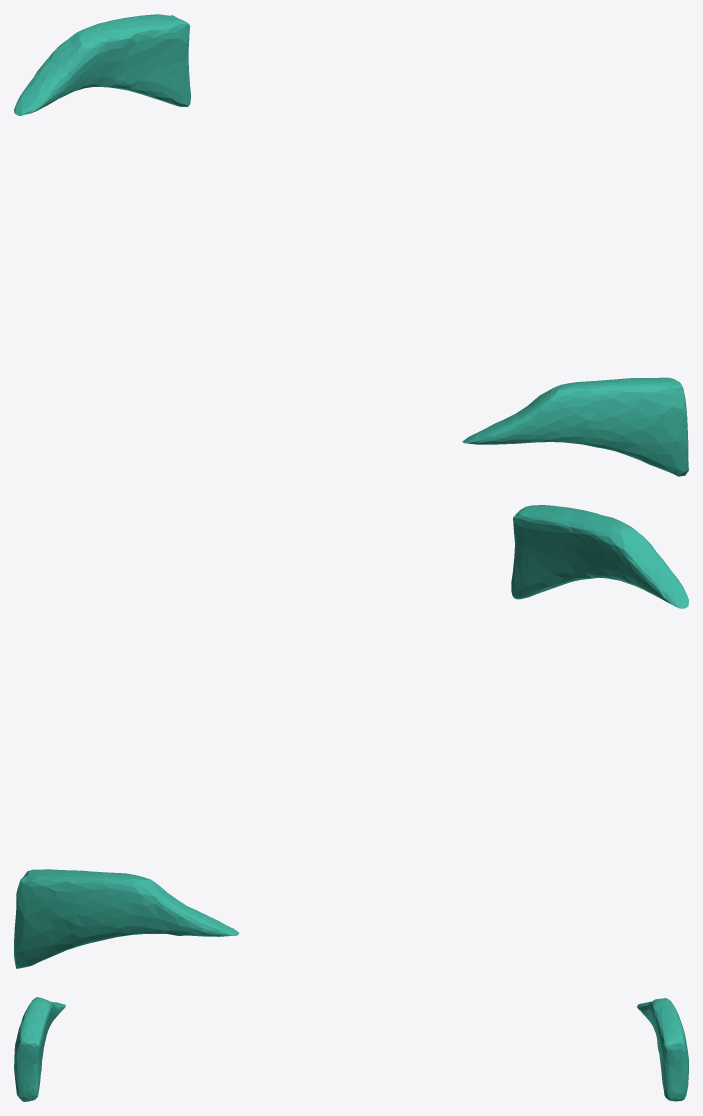
3 renders of one model, top to bottom at view 1: azimuth 30°, elevation 25°; view 2: azimuth 150°, elevation 25°; view 3: azimuth 270°, elevation 25°, orthographic. The views are drawn at different scales.
Visible parts, largest first — view 1: 1058.obj; view 2: 1058.obj; view 3: 1058.obj.
Part boxes in pixels (x1=…): 1058.obj: x1=14, y1=14, x2=688, y2=476; 1058.obj: x1=14, y1=505, x2=688, y2=968; 1058.obj: x1=14, y1=997, x2=688, y2=1101.
Size of the model in its own units: 2011 by 1036 by 9240.
